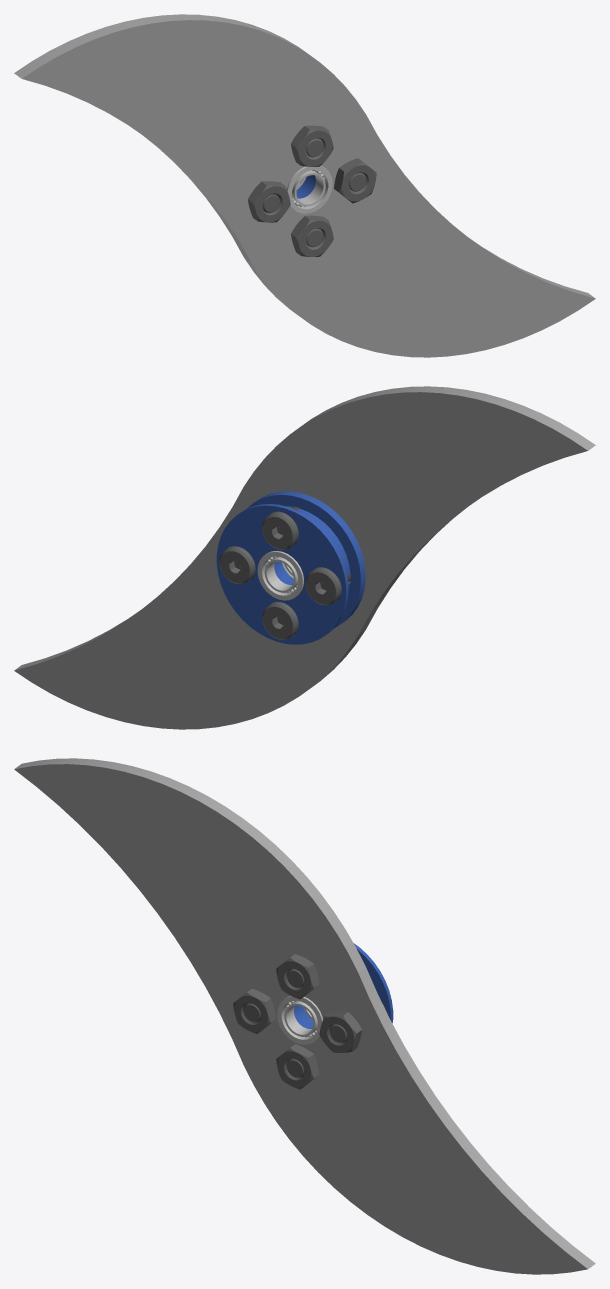
File: horizon_weapon-opt.glb
3 views of the same model, one above another, from view 1: azimuth 30°, elevation 25°; view 2: azimuth 150°, elevation 25°; view 3: azimuth 330°, elevation 25° (orthographic).
Parts seen in each view (by area): view 1: Weapon, 92362A160_18-8 Stainless Steel Narrow Hex Nut (×4), Part 80, Part 79; view 2: Weapon, 30t pulley, 92220A173_Alloy Steel Low-Profile Socket Head Screw (×4), Part 80, Part 79; view 3: Weapon, 92362A160_18-8 Stainless Steel Narrow Hex Nut (×4), 30t pulley, Part 80.
Part boxes in pixels (x1,y1,x2,y2): Weapon: (14,14,595,357); 92362A160_18-8 Stainless Steel Narrow Hex Nut (×4): (248,125,376,256); Part 80: (287,166,332,213); Part 79: (292,170,325,206); Weapon: (14,386,595,729); 30t pulley: (216,491,365,644); 92220A173_Alloy Steel Low-Profile Socket Head Screw (×4): (219,506,351,639); Part 80: (257,551,303,600); Part 79: (264,557,298,592); Weapon: (14,758,595,1274); 92362A160_18-8 Stainless Steel Narrow Hex Nut (×4): (233,954,361,1089); 30t pulley: (291,943,393,1028); Part 80: (277,995,322,1044).
Bounding box in the file's own units: 135 × 91.74 × 15.33.
